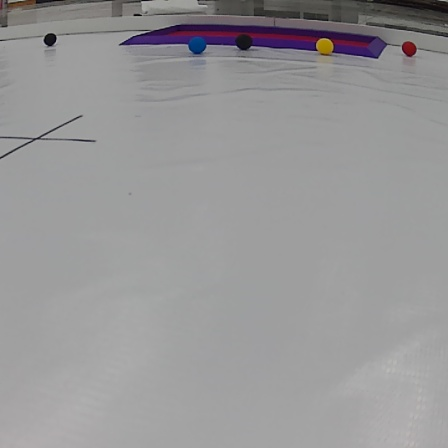black: (234, 34, 253, 50), (42, 32, 59, 46)
blue: (188, 36, 208, 50)
red: (400, 38, 419, 56)
red_aim: (128, 22, 382, 53)
yellow: (315, 38, 335, 54)
